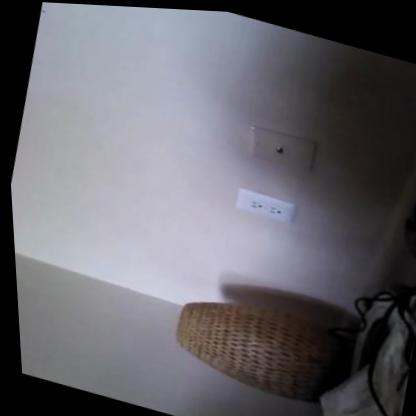OUTLET: (233, 185, 300, 224)
